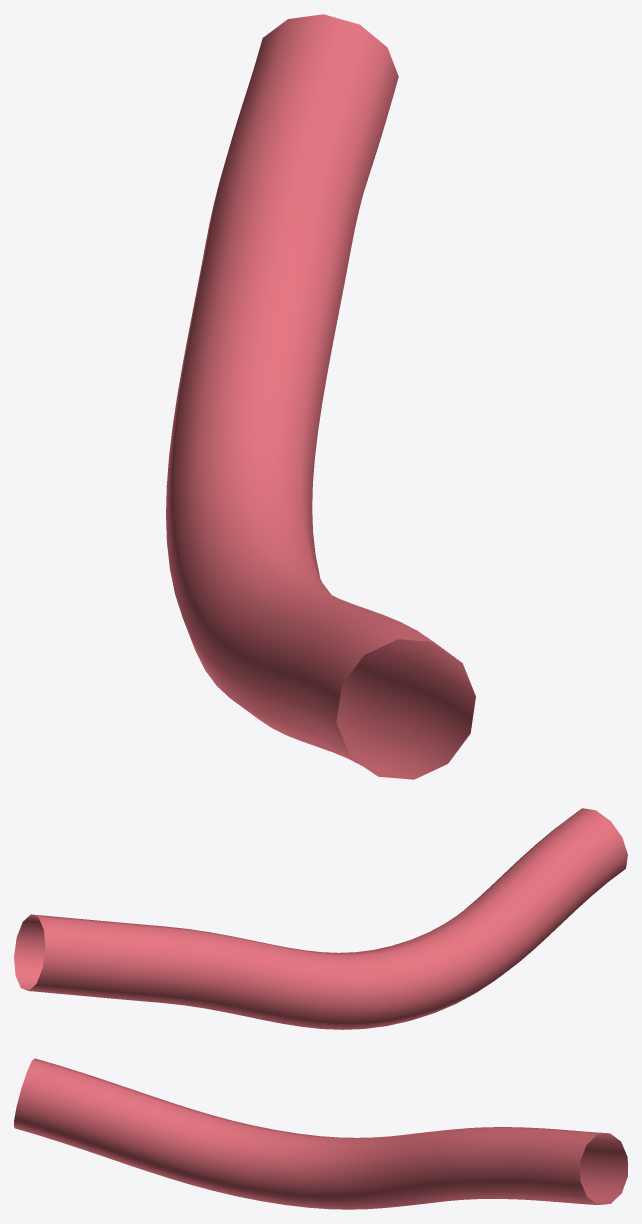
The picture shows the model from 3 angles, top to bottom: view 1: azimuth 30°, elevation 25°; view 2: azimuth 150°, elevation 25°; view 3: azimuth 270°, elevation 25°; orthographic projection. The views are drawn at different scales.
Parts seen in each view (by area): view 1: ZA_560448f814d0e157; view 2: ZA_560448f814d0e157; view 3: ZA_560448f814d0e157.
Boxes of the visible parts, left/top/right/bottom form: ZA_560448f814d0e157: left=166, top=14, right=475, bottom=779; ZA_560448f814d0e157: left=14, top=808, right=627, bottom=1029; ZA_560448f814d0e157: left=14, top=1058, right=627, bottom=1209.
Bounding box in the file's own units: 0.00721 × 0.00364 × 0.0126.
